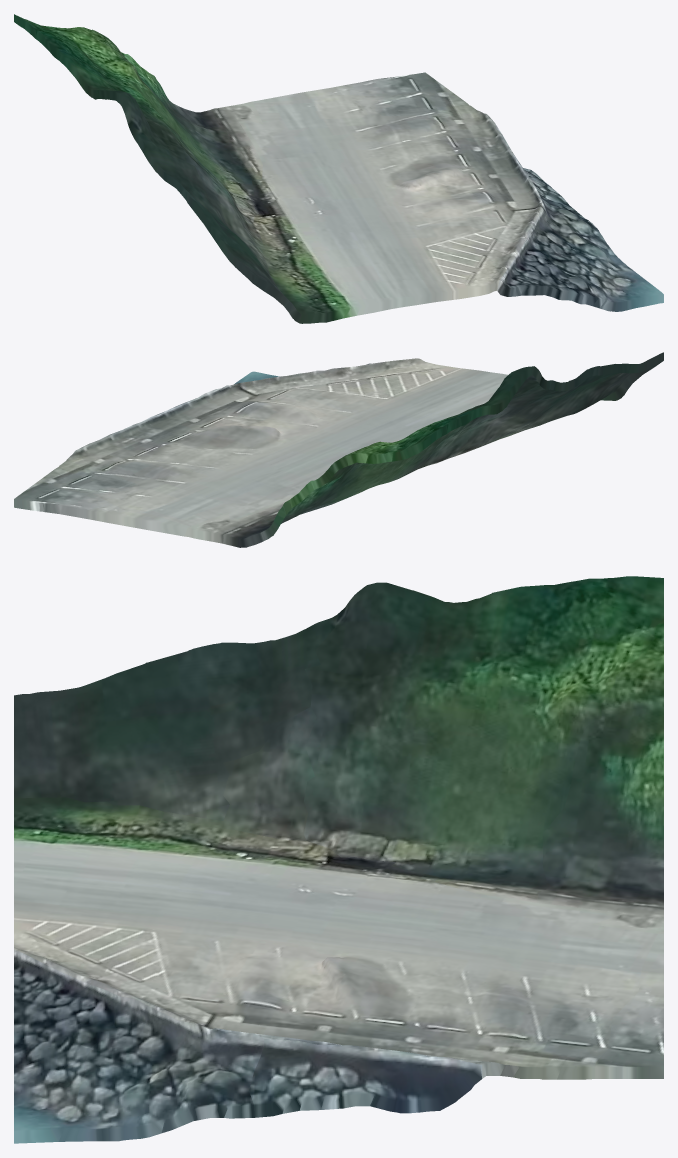
The model's file is z20-167553-405170-h0-yup-uvflip-v3-world.glb.
3 renders of one model, top to bottom at view 1: azimuth 30°, elevation 25°; view 2: azimuth 150°, elevation 25°; view 3: azimuth 270°, elevation 25°, orthographic. The views are drawn at different scales.
Bounding box in the file's own units: 30.16 × 15.12 × 30.32.
Materials: 1 (1 with a texture image).
